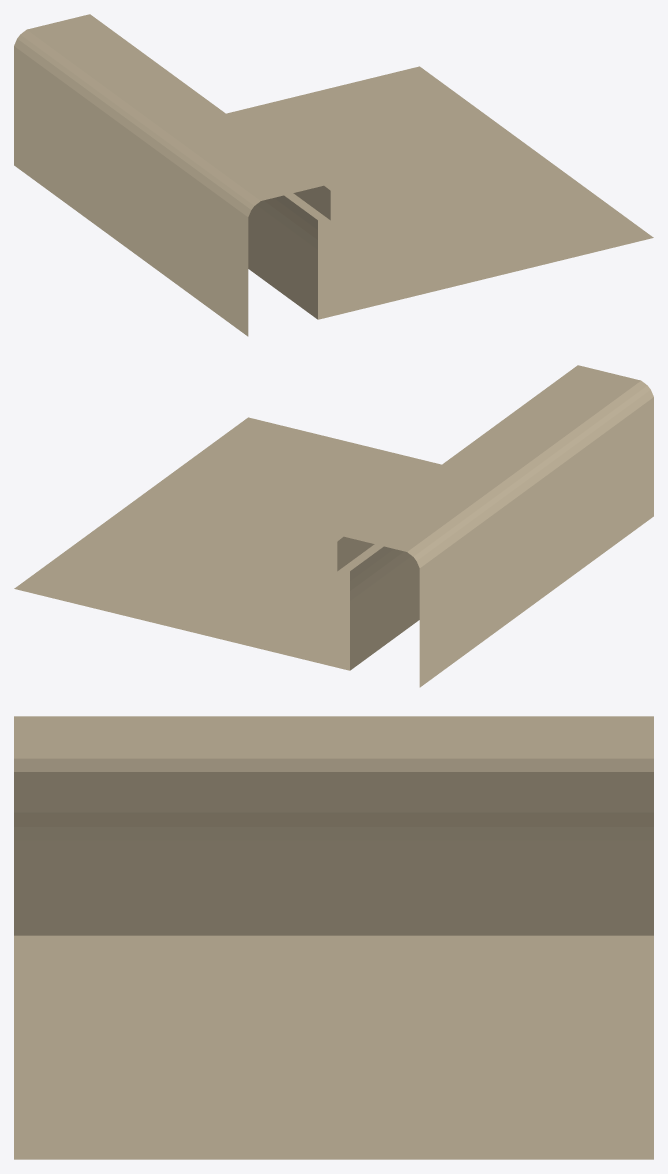
The picture shows the model from 3 angles, top to bottom: view 1: azimuth 30°, elevation 25°; view 2: azimuth 150°, elevation 25°; view 3: azimuth 270°, elevation 25°; orthographic projection. The views are drawn at different scales.
Visible parts, largest first — view 1: model; view 2: model; view 3: model.
Part boxes in pixels (x1=…): model: x1=14, y1=14, x2=653, y2=336; model: x1=14, y1=365, x2=653, y2=687; model: x1=14, y1=716, x2=653, y2=1159.
Size of the model in its own units: 1 by 0.3125 by 1.
